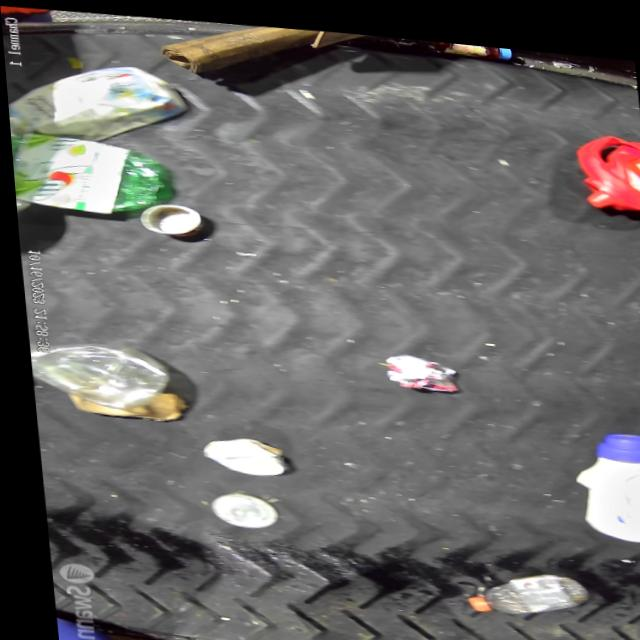can: (375, 343, 456, 386), (200, 485, 270, 526), (133, 197, 205, 236)
non_white_jug: (3, 53, 190, 149), (567, 118, 640, 206)
plastic_bottle: (22, 335, 170, 413), (450, 556, 582, 613), (606, 639, 640, 640)
